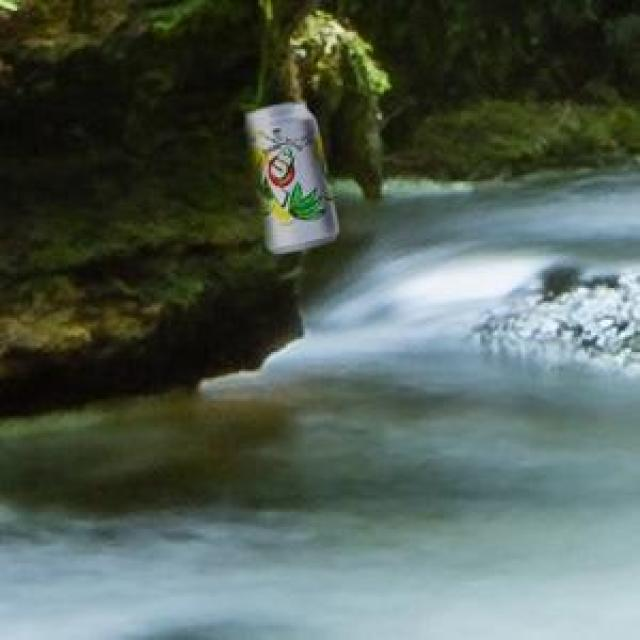logam: (244, 99, 336, 251)
